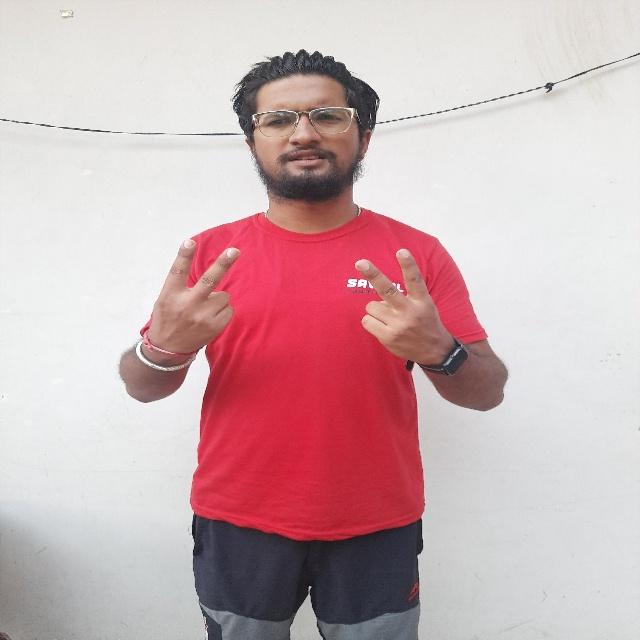Reversed Victory: (138, 230, 248, 389), (342, 238, 458, 372)
